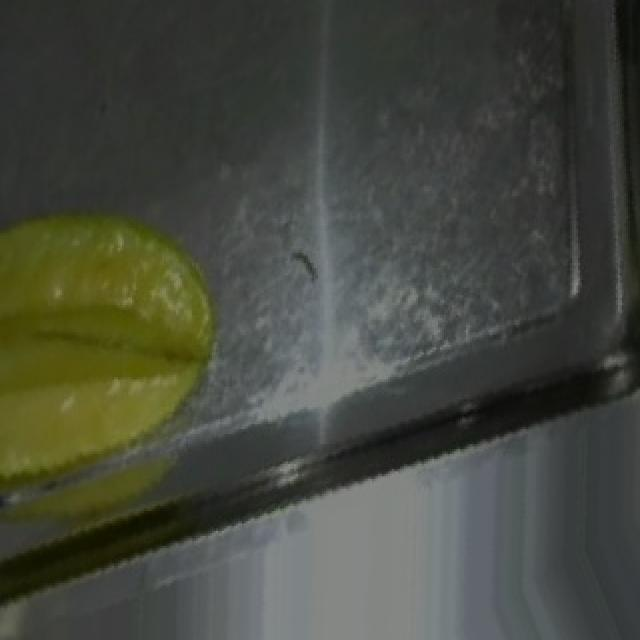fruit: (0, 171, 252, 533)
